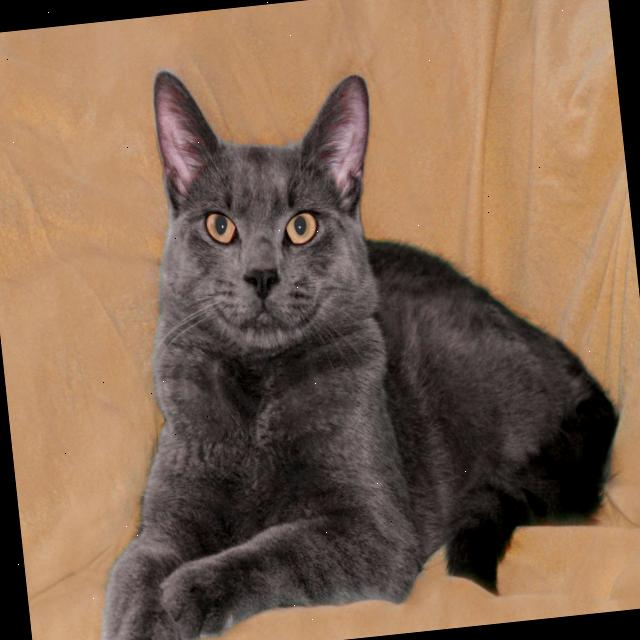russian_blue_cat: (138, 46, 400, 373)
